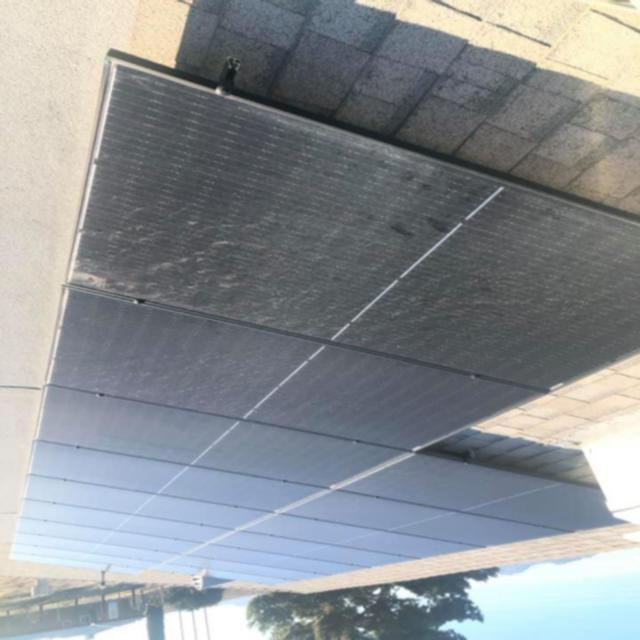cracked: (35, 47, 620, 451)
